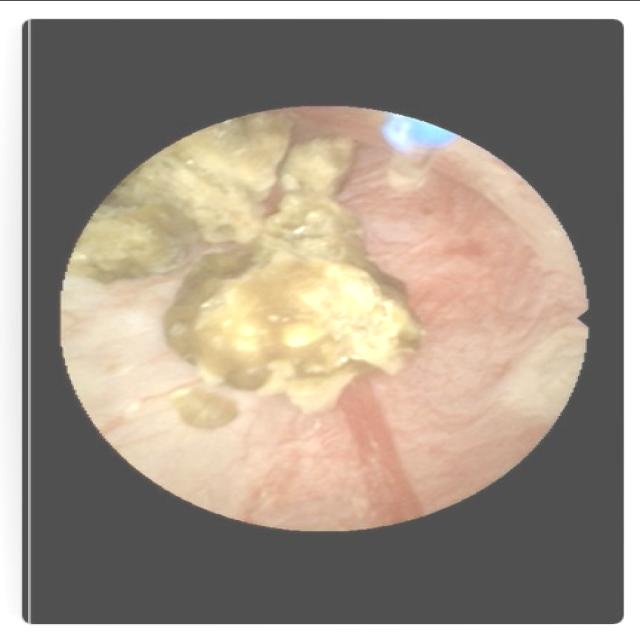fiber: (388, 116, 453, 149)
stone: (169, 142, 412, 407), (74, 121, 285, 278), (178, 390, 235, 425)
